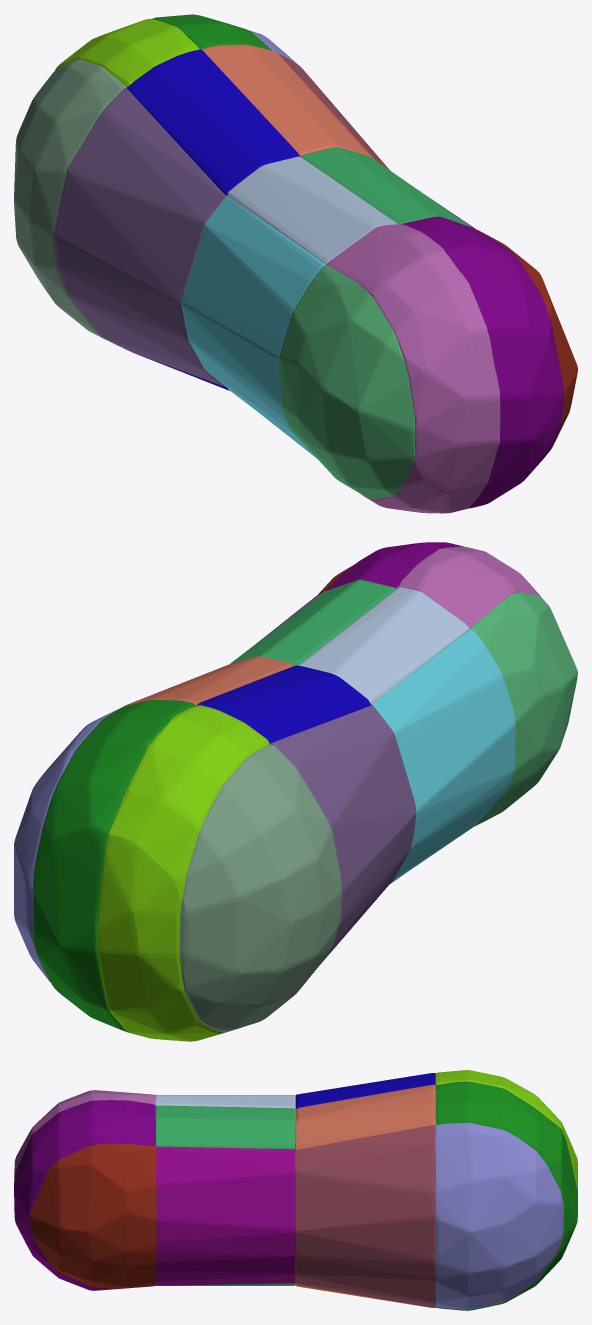
The model's file is th_proximal_split.obj.
The picture shows the model from 3 angles, top to bottom: view 1: azimuth 30°, elevation 25°; view 2: azimuth 150°, elevation 25°; view 3: azimuth 270°, elevation 25°; orthographic projection. The views are drawn at different scales.
Parts seen in each view (by area): view 1: geometry_1, geometry_7, geometry_3, geometry_2, geometry_11, geometry_0, geometry_5, geometry_6, geometry_9, geometry_10, geometry_4, geometry_8 (+2 smaller); view 2: geometry_0, geometry_4, geometry_8, geometry_2, geometry_1, geometry_3, geometry_6, geometry_5, geometry_7, geometry_10, geometry_12, geometry_9 (+1 smaller); view 3: geometry_13, geometry_12, geometry_14, geometry_15, geometry_11, geometry_8, geometry_9, geometry_10, geometry_5, geometry_4, geometry_6, geometry_7.
Boxes of the visible parts, bbox=[...] form: geometry_1: bbox=[54, 87, 226, 386]; geometry_7: bbox=[326, 224, 500, 513]; geometry_3: bbox=[279, 265, 415, 499]; geometry_2: bbox=[181, 196, 325, 458]; geometry_11: bbox=[402, 216, 563, 508]; geometry_0: bbox=[14, 59, 126, 346]; geometry_5: bbox=[126, 49, 300, 390]; geometry_6: bbox=[227, 156, 398, 405]; geometry_9: bbox=[201, 44, 374, 159]; geometry_10: bbox=[300, 147, 470, 226]; geometry_4: bbox=[55, 19, 199, 86]; geometry_8: bbox=[151, 14, 271, 50]; geometry_0: bbox=[179, 744, 342, 1032]; geometry_4: bbox=[97, 705, 269, 1041]; geometry_8: bbox=[33, 700, 196, 1032]; geometry_2: bbox=[371, 628, 515, 883]; geometry_1: bbox=[269, 705, 416, 964]; geometry_3: bbox=[471, 592, 577, 826]; geometry_6: bbox=[298, 587, 469, 883]; geometry_5: bbox=[197, 665, 371, 743]; geometry_7: bbox=[396, 546, 542, 628]; geometry_10: bbox=[230, 579, 396, 665]; geometry_12: bbox=[14, 708, 119, 982]; geometry_9: bbox=[123, 656, 295, 706]; geometry_13: bbox=[295, 1125, 436, 1307]; geometry_12: bbox=[435, 1122, 563, 1309]; geometry_14: bbox=[155, 1146, 295, 1285]; geometry_15: bbox=[29, 1143, 156, 1288]; geometry_11: bbox=[14, 1100, 155, 1290]; geometry_8: bbox=[435, 1081, 577, 1310]; geometry_9: bbox=[295, 1084, 436, 1307]; geometry_10: bbox=[155, 1105, 295, 1285]; geometry_5: bbox=[295, 1073, 435, 1108]; geometry_4: bbox=[435, 1070, 577, 1195]; geometry_6: bbox=[155, 1095, 295, 1108]; geometry_7: bbox=[14, 1090, 156, 1176].
Size of the model in its own units: 26.01 by 26.29 by 61.27.
